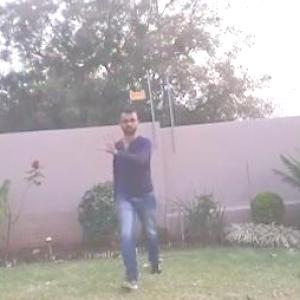follow_hand: (95, 130, 120, 157)
